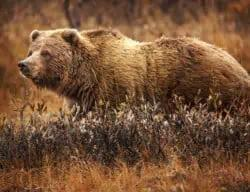ball: (18, 28, 249, 111)
